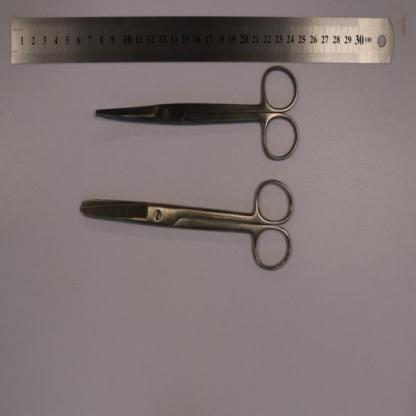Curved Mayo Scissors: (94, 65, 300, 164)
Dressing Scissors: (80, 175, 295, 274)
